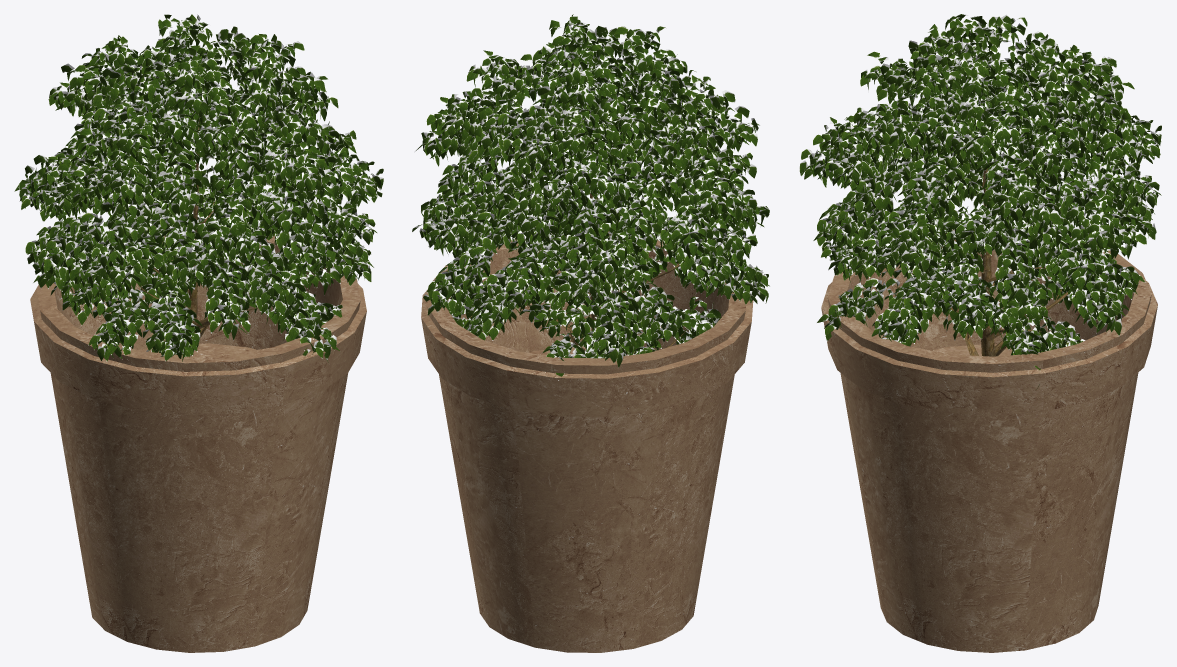
The model's file is pot-v1.glb.
The picture shows the model from 3 angles, left to right: view 1: azimuth 30°, elevation 25°; view 2: azimuth 150°, elevation 25°; view 3: azimuth 270°, elevation 25°; orthographic projection.
Parts seen in each view (by area): view 1: tree, pot; view 2: tree, pot; view 3: tree, pot.
Boxes of the visible parts, <box> form: tree: <box>14,14,383,362</box>; pot: <box>30,230,366,652</box>; tree: <box>412,14,769,380</box>; pot: <box>421,233,753,652</box>; tree: <box>799,14,1161,389</box>; pot: <box>821,228,1157,652</box>.
Size of the model in its own units: 0.0165 by 0.0284 by 0.0165.
3 materials, 3 textured.
